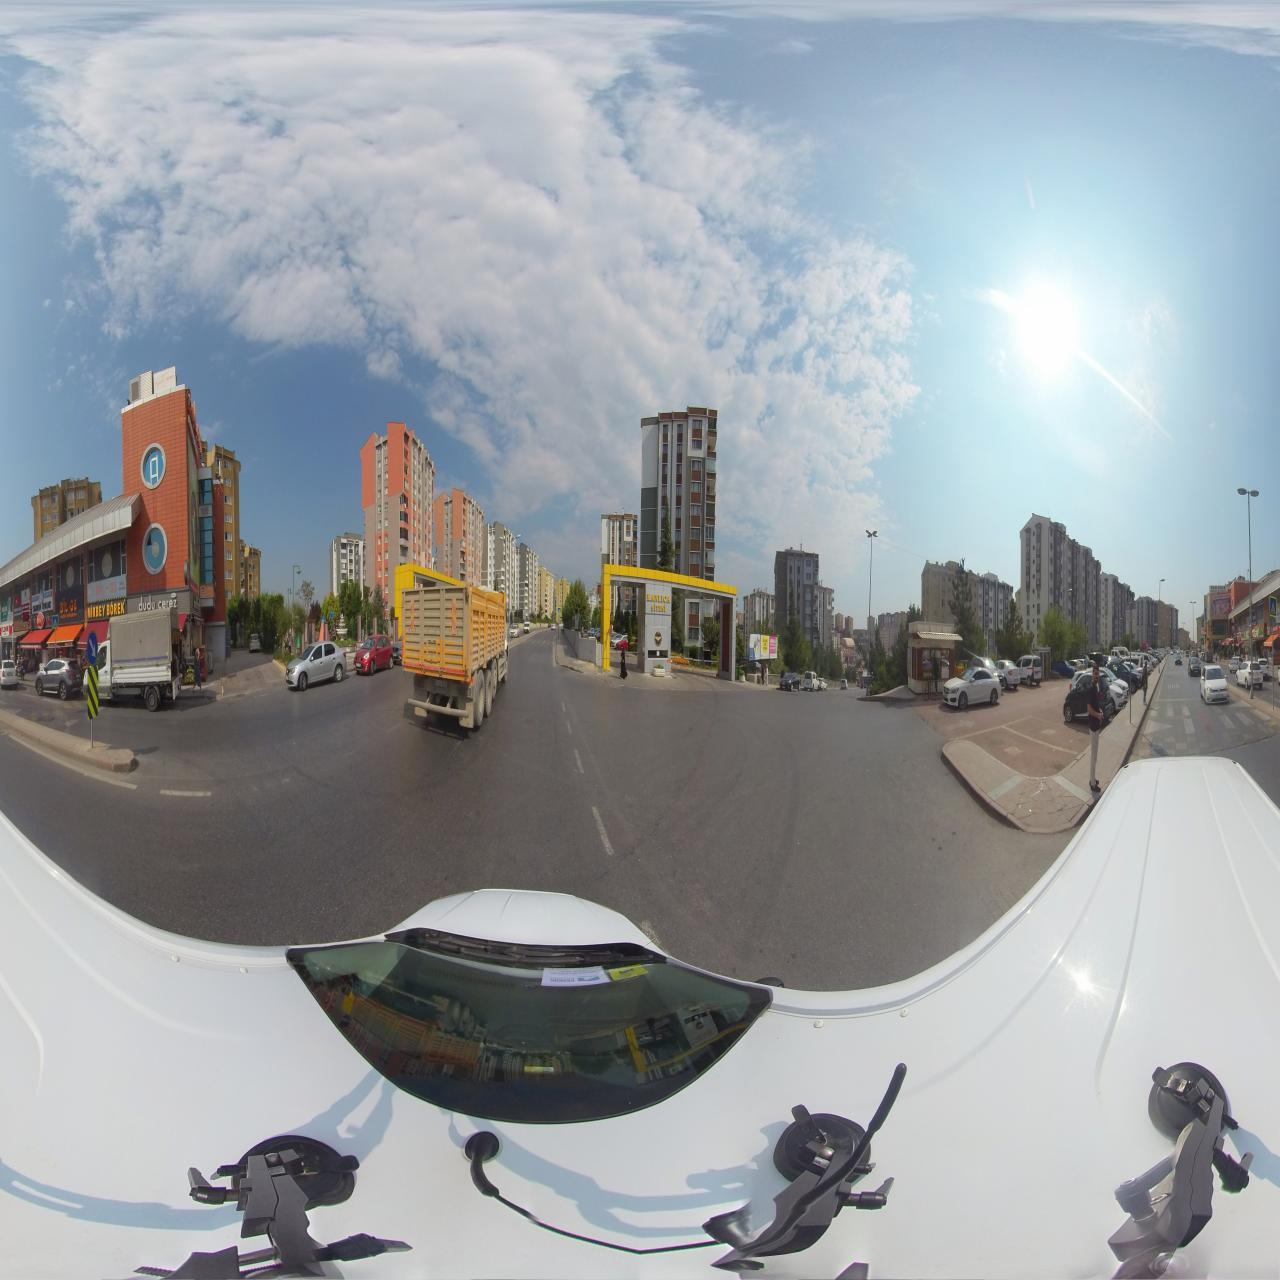SignStore: (138, 590, 182, 613), (89, 576, 125, 601), (87, 598, 125, 620), (59, 593, 79, 620), (35, 612, 48, 629), (192, 593, 202, 613), (1253, 624, 1265, 639), (1, 624, 9, 639), (16, 621, 27, 631), (1271, 625, 1278, 633)
